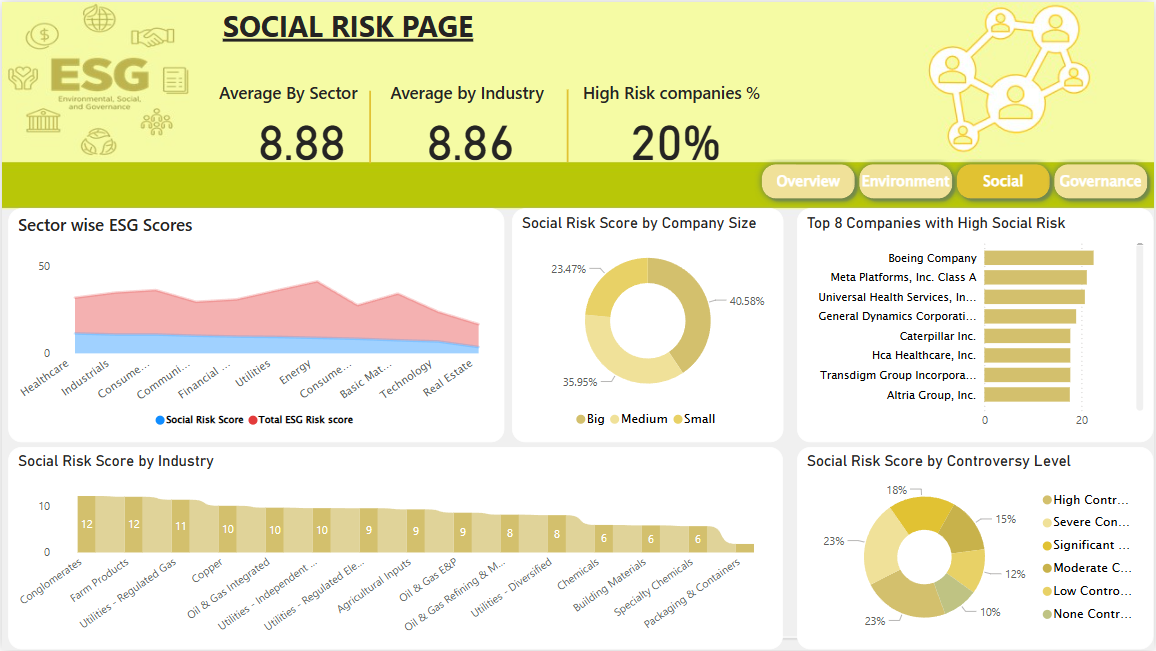

The page's visual inventory and layout, read from the dashboard file:
{"tool":"powerbi","page":{"name":"Social","canvas":[1280,720],"ordinal":2},"visuals":[{"type":"donutChart","title":"Social Risk Score by Controversy Level","fields":{"Category":["SP 500 ESG Risk Ratings.Controversy Level"],"Y":["Avg(SP 500 ESG Risk Ratings.Social Risk Score)"]},"box":[883.3,494.4,395.8,225],"z":2000},{"type":"ribbonChart","title":"Social Risk Score by Industry","fields":{"Category":["SP 500 ESG Risk Ratings.Industry"],"Y":["Avg(SP 500 ESG Risk Ratings.Social Risk Score)"]},"box":[6.9,494.4,861.1,225],"z":3000},{"type":"barChart","title":"Top 8 Companies with High Social Risk","fields":{"Category":["SP 500 ESG Risk Ratings.Name"],"Y":["Sum(SP 500 ESG Risk Ratings.Social Risk Score)"]},"box":[883.3,229.2,395.8,259.7],"z":4000},{"type":"stackedAreaChart","title":"Sector wise ESG Scores","fields":{"Category":["SP 500 ESG Risk Ratings.Sector"],"Y":["Avg(SP 500 ESG Risk Ratings.Social Risk Score)","Avg(SP 500 ESG Risk Ratings.Total ESG Risk score)"]},"box":[6.9,229.2,551.4,259.7],"z":5000},{"type":"donutChart","title":"Social Risk Score by Company Size","fields":{"Category":["SP 500 ESG Risk Ratings.Company Size"],"Y":["Avg(SP 500 ESG Risk Ratings.Social Risk Score)"]},"box":[566.7,229.2,301.4,259.7],"z":6000},{"type":"shape","box":[836.1,172.2,119.4,54.2],"z":7000},{"type":"shape","box":[944.4,172.2,119.4,54.2],"z":8000},{"type":"shape","box":[1052.8,172.2,119.4,54.2],"z":9000},{"type":"shape","box":[1160.6,172.2,119.4,54.2],"z":10000},{"type":"textbox","box":[240.3,0,318.1,62.5],"z":10001},{"type":"card","title":"High Risk companies %","fields":{"Values":["SP 500 ESG Risk Ratings.No. of companies(SRS >12)"]},"box":[640.3,87.5,216.7,104.2],"z":10004},{"type":"card","title":"Average By Sector","fields":{"Values":["Table.ASS(Sector)"]},"box":[236.1,87.5,194.4,104.2],"z":10005},{"type":"card","title":"Average by Industry","fields":{"Values":["Table.ASS(Industry)"]},"box":[426.4,87.5,188.9,104.2],"z":10006},{"type":"shape","box":[387.5,98.6,43.1,80.6],"z":10007},{"type":"shape","box":[609.7,97.2,37.5,80.6],"z":10008}]}

Visuals, with their boxes in screenshot pixels (x1, y1, x2, y2), scaled from the page's 1280x720 canvas onto the 1156x651 screenshot:
"Social Risk Score by Controversy Level" donutChart: region(798, 447, 1155, 650)
"Social Risk Score by Industry" ribbonChart: region(6, 447, 784, 650)
"Top 8 Companies with High Social Risk" barChart: region(798, 207, 1155, 442)
"Sector wise ESG Scores" stackedAreaChart: region(6, 207, 504, 442)
"Social Risk Score by Company Size" donutChart: region(512, 207, 784, 442)
shape: region(755, 156, 863, 205)
shape: region(853, 156, 961, 205)
shape: region(951, 156, 1059, 205)
shape: region(1048, 156, 1155, 205)
textbox: region(217, 0, 504, 57)
"High Risk companies %" card: region(578, 79, 774, 173)
"Average By Sector" card: region(213, 79, 389, 173)
"Average by Industry" card: region(385, 79, 556, 173)
shape: region(350, 89, 389, 162)
shape: region(551, 88, 585, 161)
